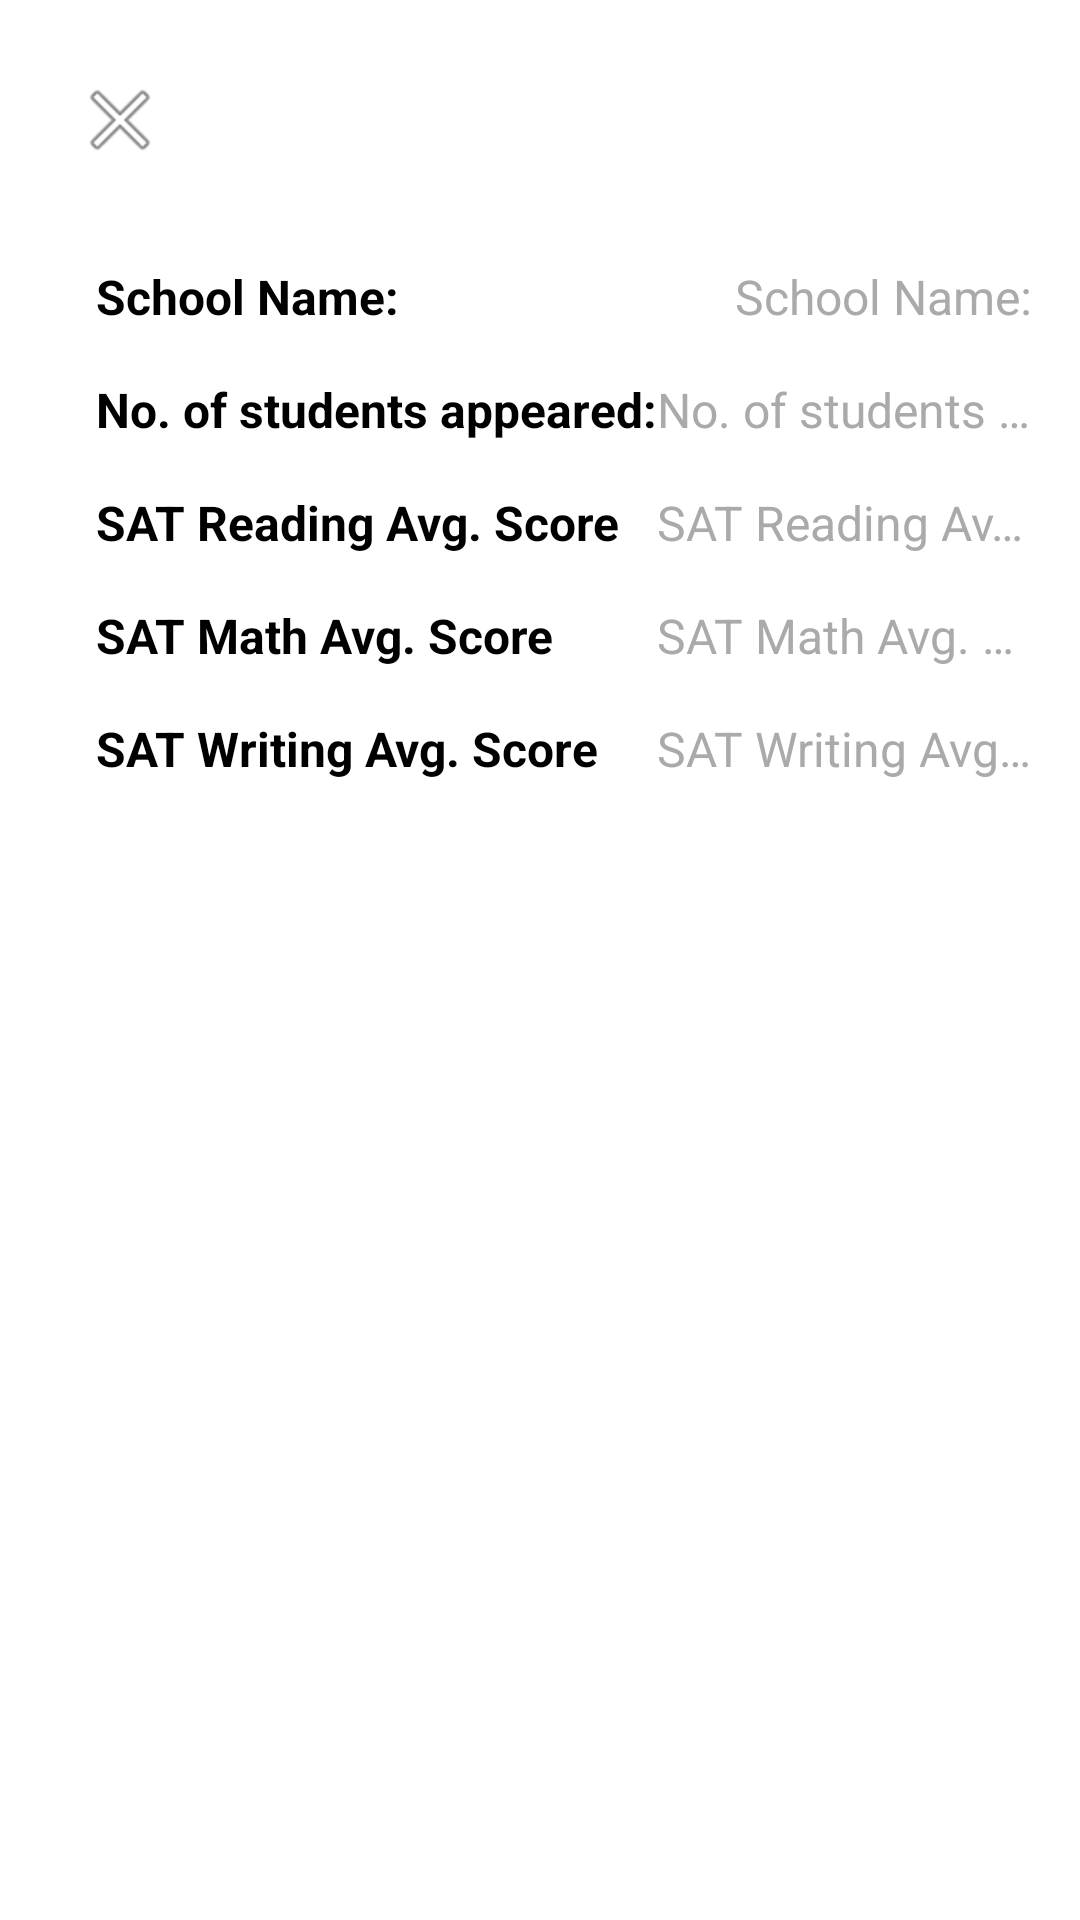

Where icons sit on this 1080x1920 app screen, as (x1, y1, x2, y2):
close school info: (90, 90, 150, 150)
